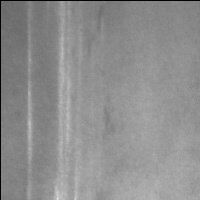scratches: (55, 9, 75, 196), (24, 9, 37, 200)
